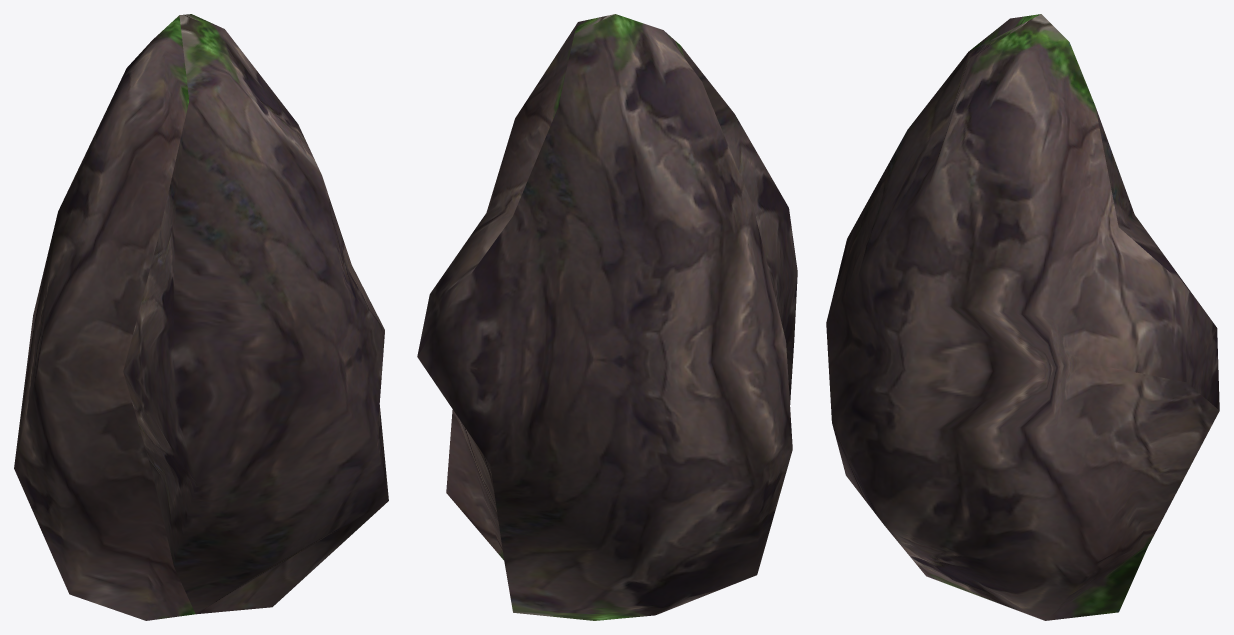
The model's file is shanti05.FBX.
The picture shows the model from 3 angles, left to right: view 1: azimuth 30°, elevation 25°; view 2: azimuth 150°, elevation 25°; view 3: azimuth 270°, elevation 25°; orthographic projection. The views are drawn at different scales.
Visible parts, largest first — view 1: shanti05; view 2: shanti05; view 3: shanti05.
Part boxes in pixels (x1=…): shanti05: x1=14, y1=14, x2=388, y2=620; shanti05: x1=417, y1=14, x2=797, y2=620; shanti05: x1=826, y1=14, x2=1219, y2=620.
Bounding box in the file's own units: 420 × 777 × 474.
